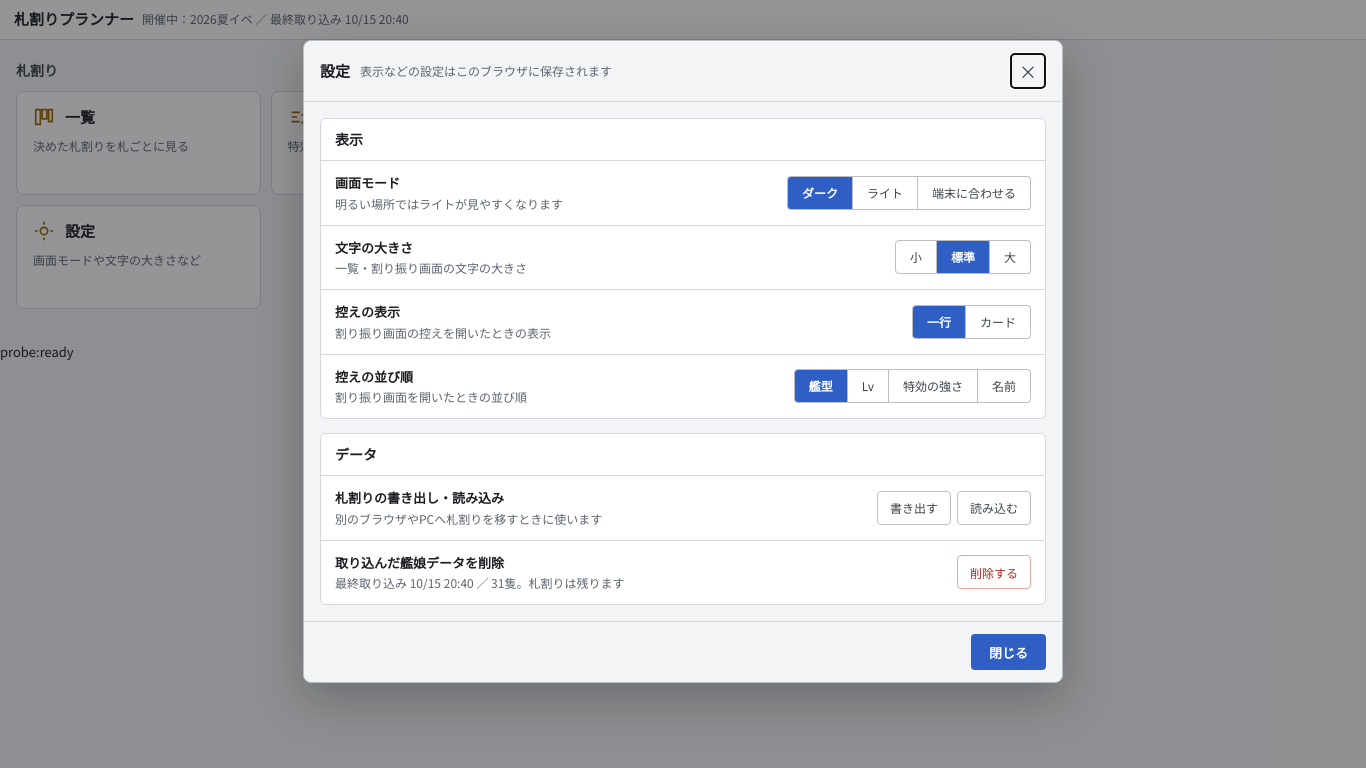
it: 割り当ての保存が列に残っている間に削除を確定してすぐ閉じても、削除が終わればホームの最終取り込みは消える
Expected: the header "札割りプランナー" reads "札割りプランナー 開催中：2026夏イベ ／ 最終取り込み 10/15 20:40", [142,10,409,27]
Expected: the text "probe:ready" is shown, [0,342,74,360]
// 削除を確定する（列の後ろに並ぶ）→ すぐ閉じる
Click the button "削除する".
click(994, 572)  # box [957,555,1031,589]
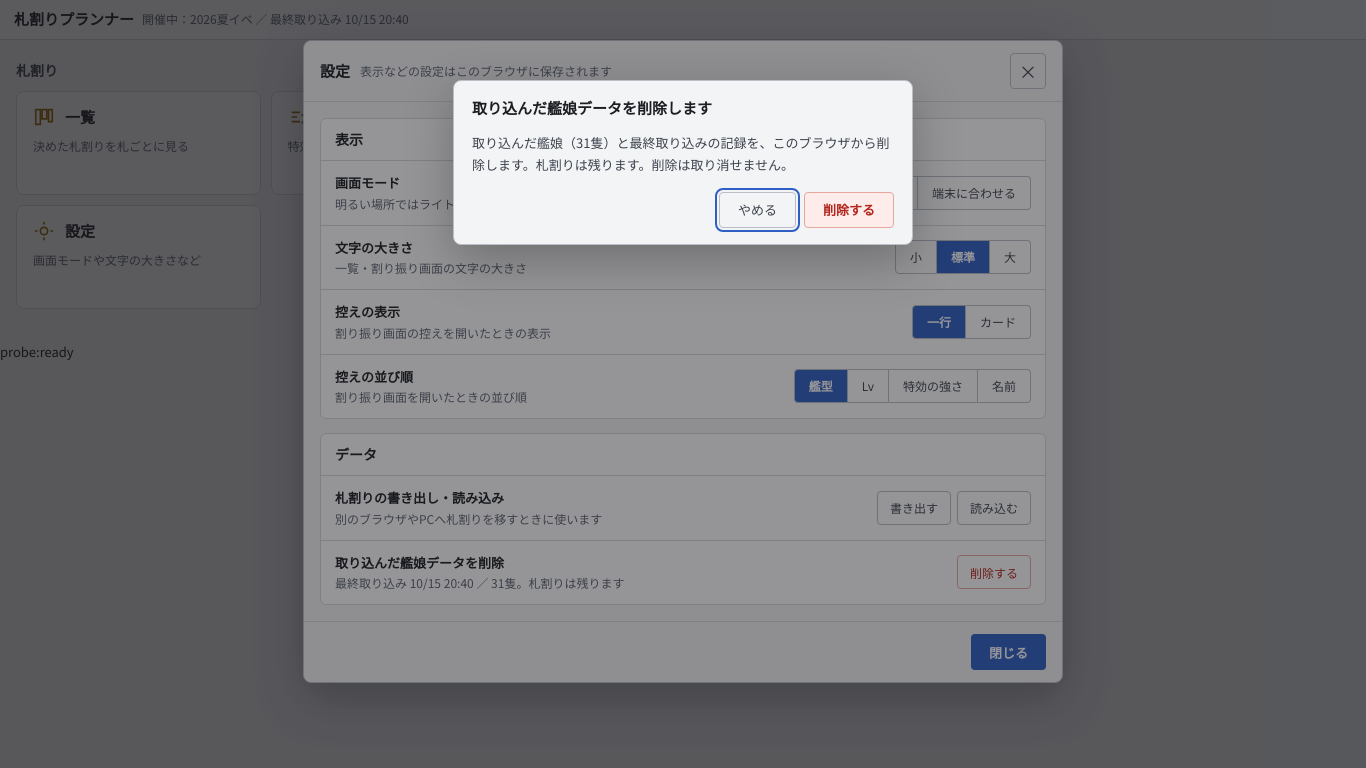
Click the button "削除する".
click(849, 210)  # box [804,192,894,228]
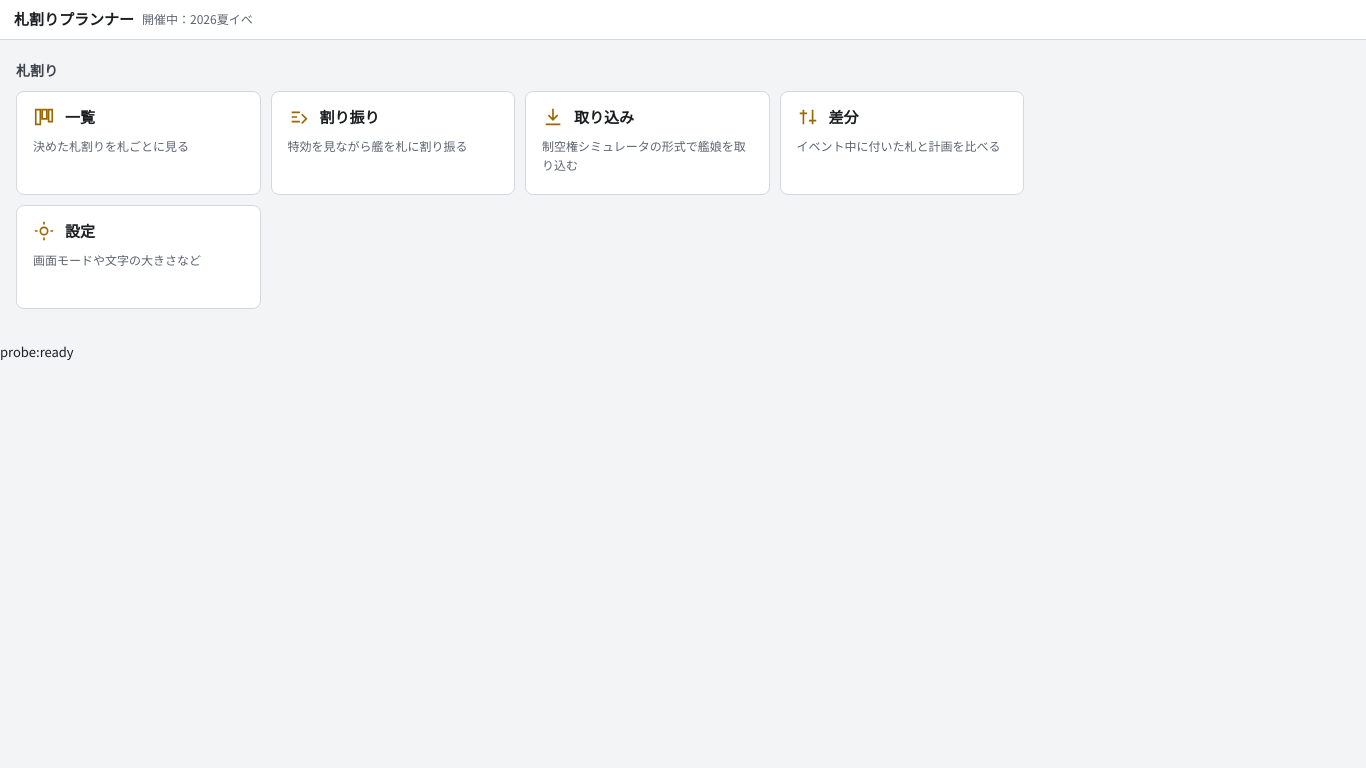
Expected: the header "札割りプランナー" no longer shows "最終取り込み", [0,0,1365,40]
